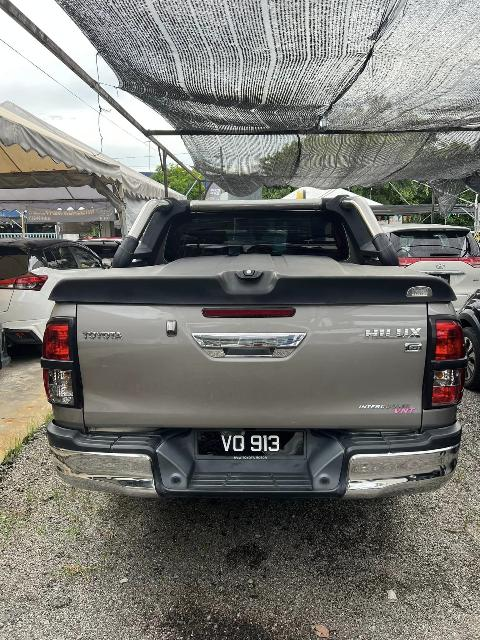License_Plate: (208, 432, 294, 463)
